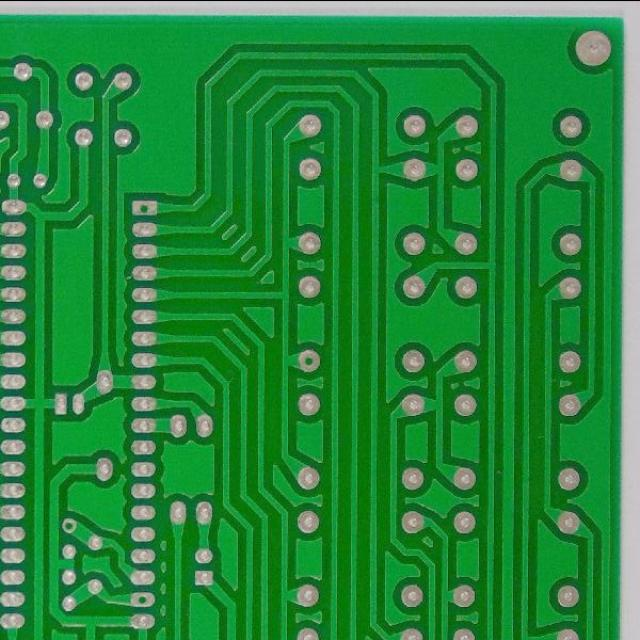missing_hole: (294, 347, 324, 372), (131, 196, 158, 220), (131, 588, 154, 611), (59, 516, 79, 534)
